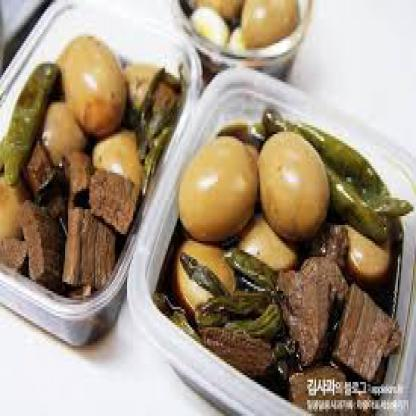janjorim: (174, 118, 399, 398), (0, 28, 171, 294), (180, 0, 307, 66)
